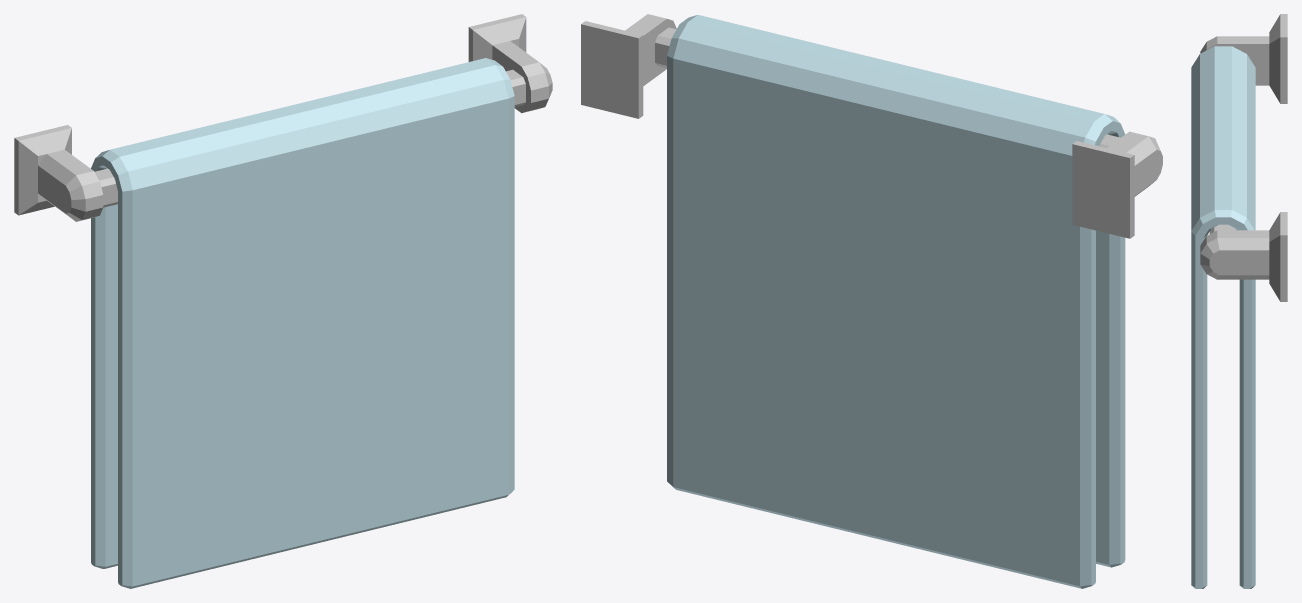
Rendered from LargeTowlRack.fbx.
3 renders of one model, left to right at view 1: azimuth 30°, elevation 25°; view 2: azimuth 150°, elevation 25°; view 3: azimuth 270°, elevation 25°, orthographic. The views are drawn at different scales.
Visible parts, largest first — view 1: object2, object1; view 2: object2, object1; view 3: object2, object1.
Part boxes in pixels (x1,y1,x2,y2): object2: [91, 58, 514, 588]; object1: [14, 14, 552, 221]; object2: [667, 15, 1125, 588]; object1: [581, 14, 1162, 238]; object2: [1191, 46, 1255, 588]; object1: [1200, 14, 1287, 301].
Size of the model in its own units: 95.92 by 77.41 by 17.67.
